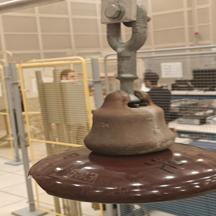insulator: (22, 84, 216, 207)
